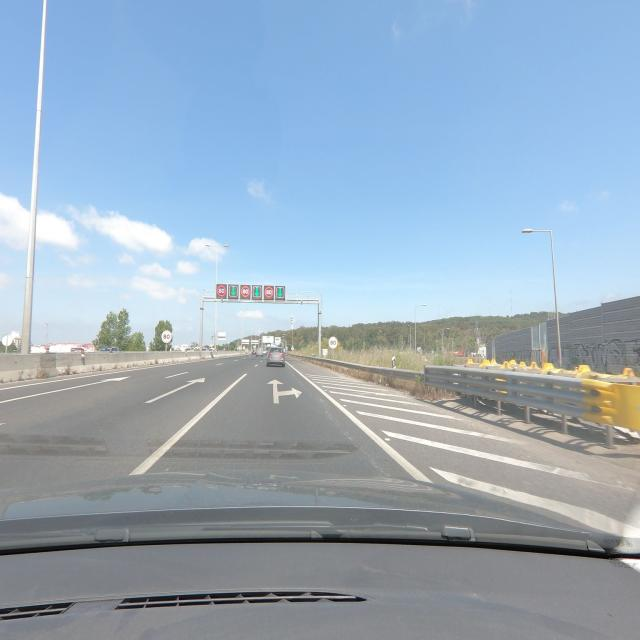car: (266, 345, 286, 367), (98, 346, 121, 354)
